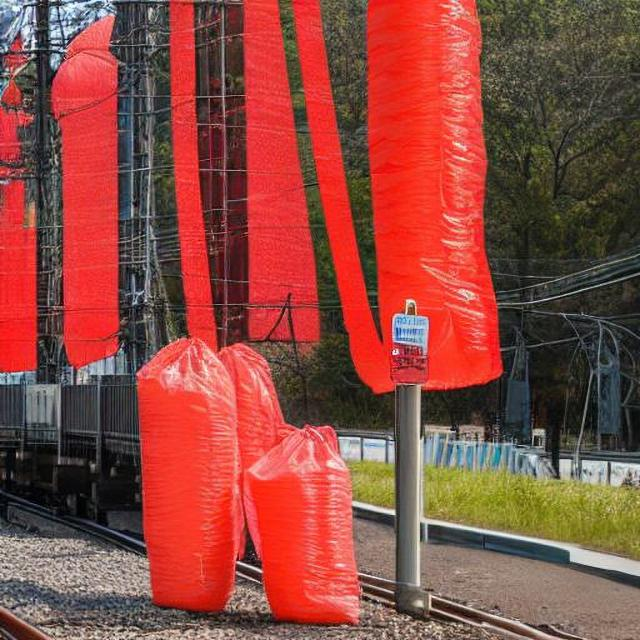floating object: (138, 334, 366, 624), (359, 8, 505, 395), (244, 0, 353, 330), (63, 34, 123, 369), (166, 1, 222, 330), (0, 30, 47, 379)
